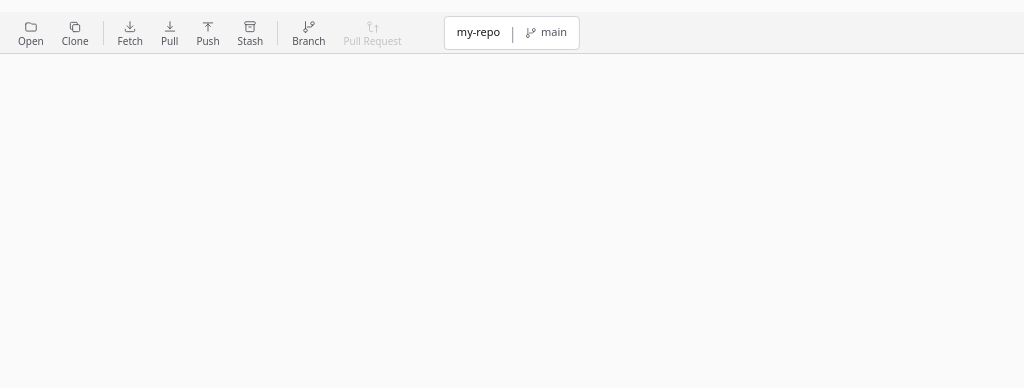
Test: ActionToolbar › Clone flyover › auto-fills repo name from URL
Step 1. Click the button with test id "toolbar-btn-Clone" → (75, 32), box [54, 16, 97, 50]
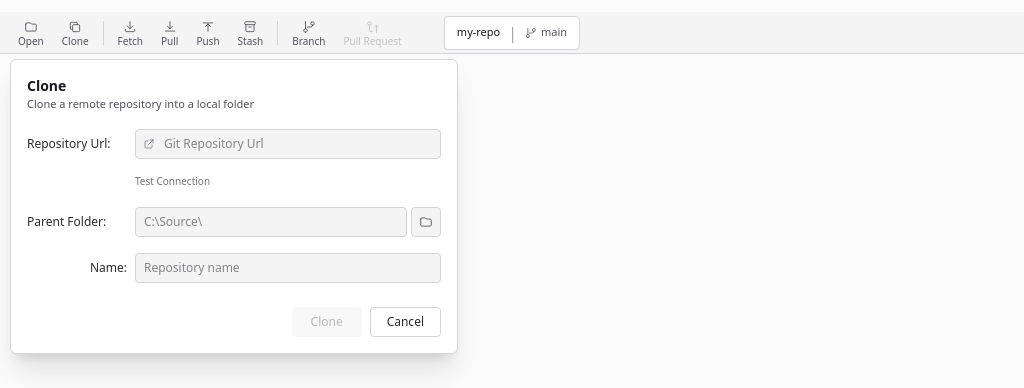
Step 2. Type "https://github.com/user/my-project.git" into the field with placeholder "Git Repository Url" → (288, 144), box [135, 128, 441, 158]
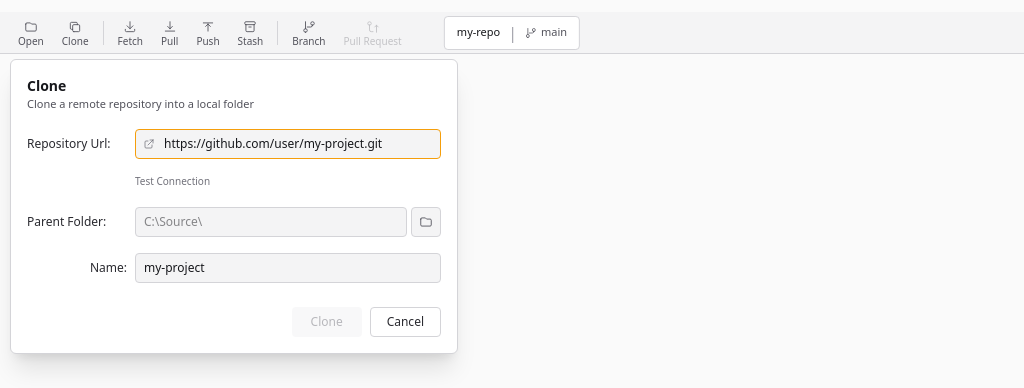
expect the field showing "my-project" next to "Name:" is shown: met, box [135, 252, 441, 282]
